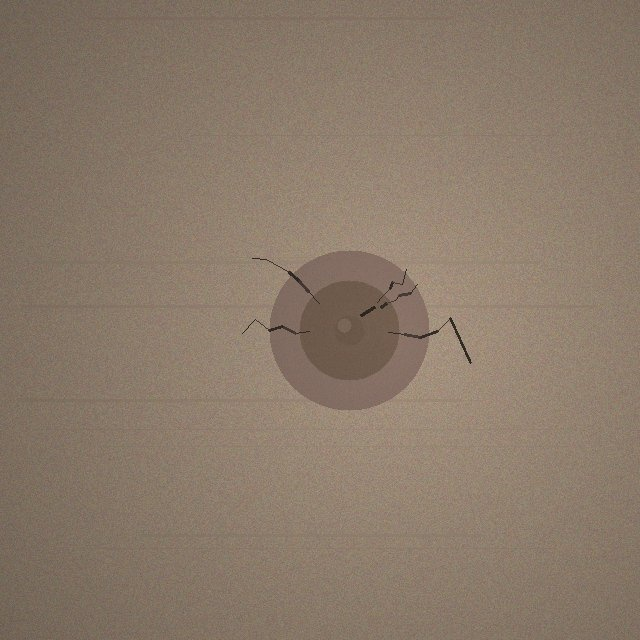crack: (269, 250, 429, 410)
